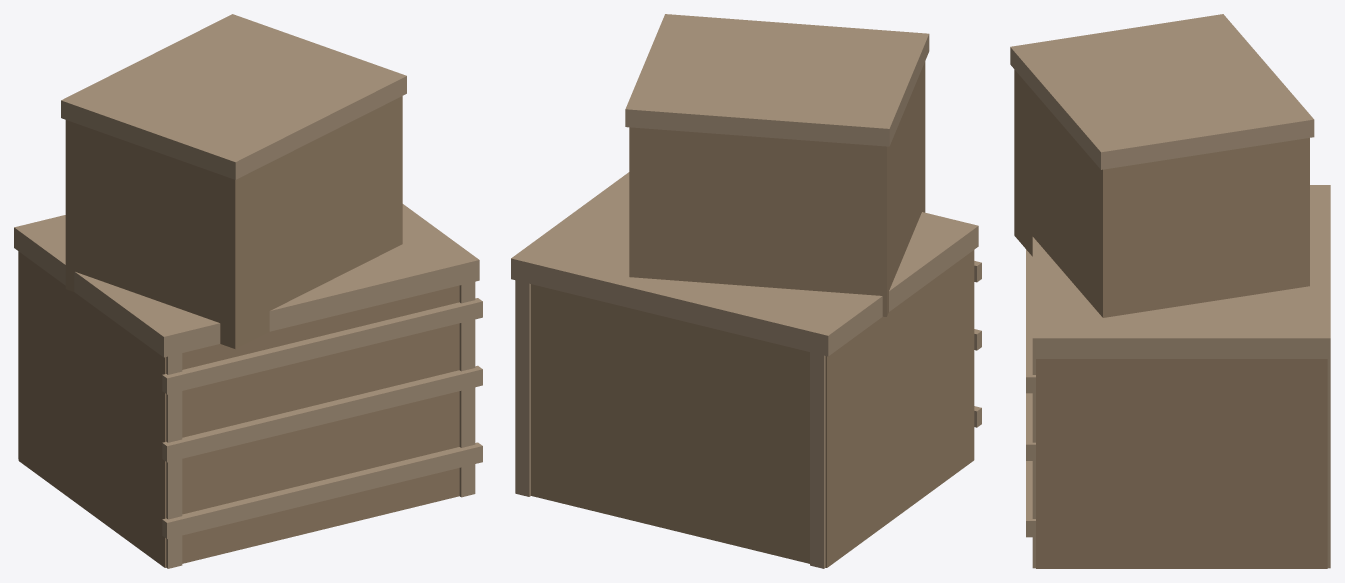
File: camp_crate.glb
3 renders of one model, left to right at view 1: azimuth 30°, elevation 25°; view 2: azimuth 150°, elevation 25°; view 3: azimuth 270°, elevation 25°, orthographic.
Parts seen in each view (by area): view 1: crate_01_body, crate_02_body, crate_02_lid, crate_01_lid, crate_01_slat0, crate_01_slat1, crate_01_slat2, crate_01_bl, crate_01_br; view 2: crate_01_body, crate_02_body, crate_02_lid, crate_01_lid, crate_01_br, crate_01_bl; view 3: crate_01_body, crate_02_body, crate_02_lid, crate_01_lid, crate_01_br, crate_01_slat2, crate_01_slat0, crate_01_slat1.
Part boxes in pixels (left/top/right/bottom): crate_01_body: left=18, top=251, right=459, bottom=567; crate_02_body: left=65, top=96, right=402, bottom=348; crate_02_lid: left=61, top=14, right=406, bottom=179; crate_01_lid: left=14, top=204, right=479, bottom=357; crate_01_slat0: left=162, top=442, right=482, bottom=538; crate_01_slat1: left=162, top=365, right=482, bottom=462; crate_01_slat2: left=162, top=298, right=482, bottom=394; crate_01_bl: left=18, top=251, right=182, bottom=568; crate_01_br: left=459, top=278, right=475, bottom=497; crate_01_body: left=531, top=250, right=974, bottom=567; crate_02_body: left=629, top=61, right=925, bottom=316; crate_02_lid: left=625, top=14, right=929, bottom=146; crate_01_lid: left=511, top=172, right=978, bottom=356; crate_01_br: left=515, top=274, right=530, bottom=496; crate_01_bl: left=810, top=346, right=825, bottom=568; crate_01_body: left=1036, top=359, right=1327, bottom=568; crate_02_body: left=1014, top=69, right=1309, bottom=317; crate_02_lid: left=1010, top=14, right=1314, bottom=169; crate_01_lid: left=1032, top=185, right=1330, bottom=358; crate_01_br: left=1032, top=359, right=1330, bottom=568; crate_01_slat2: left=1026, top=249, right=1035, bottom=393; crate_01_slat0: left=1026, top=461, right=1035, bottom=537; crate_01_slat1: left=1026, top=393, right=1035, bottom=460.
Bounding box in the file's own units: 1.14 × 1.36 × 0.9891.
